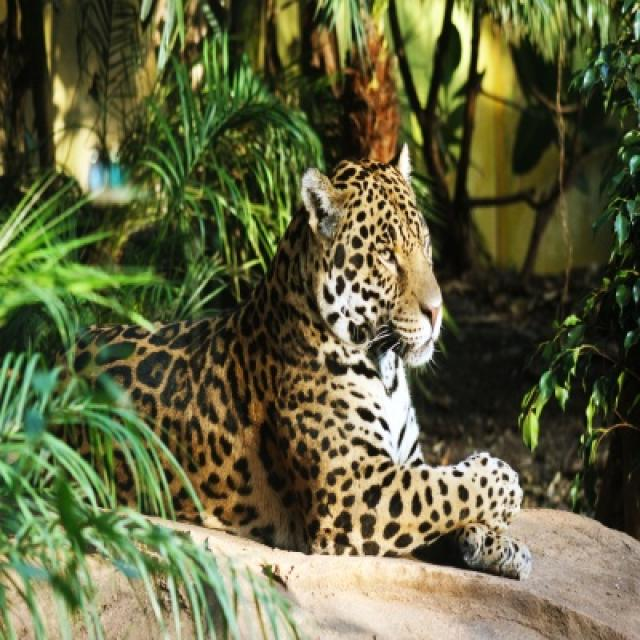Jaguar: (21, 160, 531, 581)
